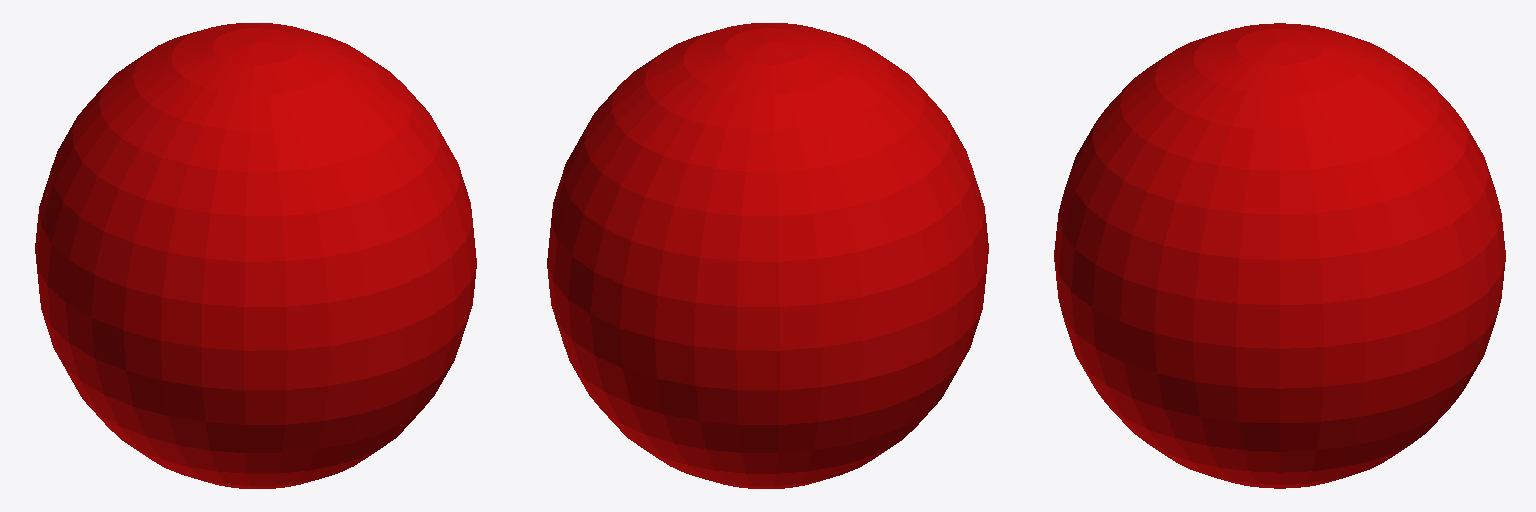
File: moya_fan_r.obj
The picture shows the model from 3 angles: view 1: azimuth 30°, elevation 25°; view 2: azimuth 150°, elevation 25°; view 3: azimuth 270°, elevation 25°; orthographic projection.
Visible parts, largest first — view 1: Sphere_Sphere.000_Sphere_Sphere.004; view 2: Sphere_Sphere.000_Sphere_Sphere.004; view 3: Sphere_Sphere.000_Sphere_Sphere.004.
Boxes of the visible parts, box(x1,y1,x2,y2) form: Sphere_Sphere.000_Sphere_Sphere.004: box(35, 23, 476, 488); Sphere_Sphere.000_Sphere_Sphere.004: box(547, 23, 988, 488); Sphere_Sphere.000_Sphere_Sphere.004: box(1054, 23, 1505, 488).
Bounding box in the file's own units: 0.4594 × 0.4922 × 0.4726.